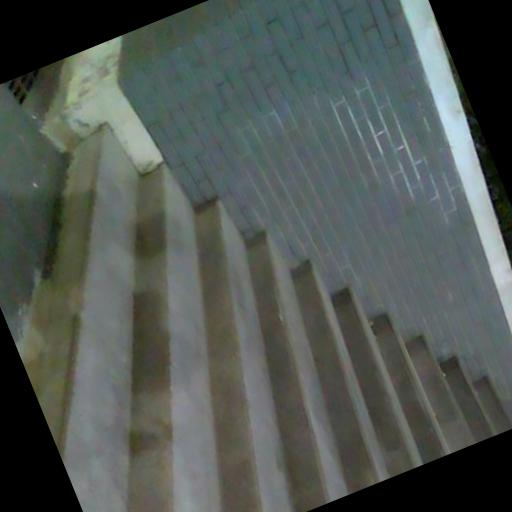stairs: (23, 128, 511, 511)
